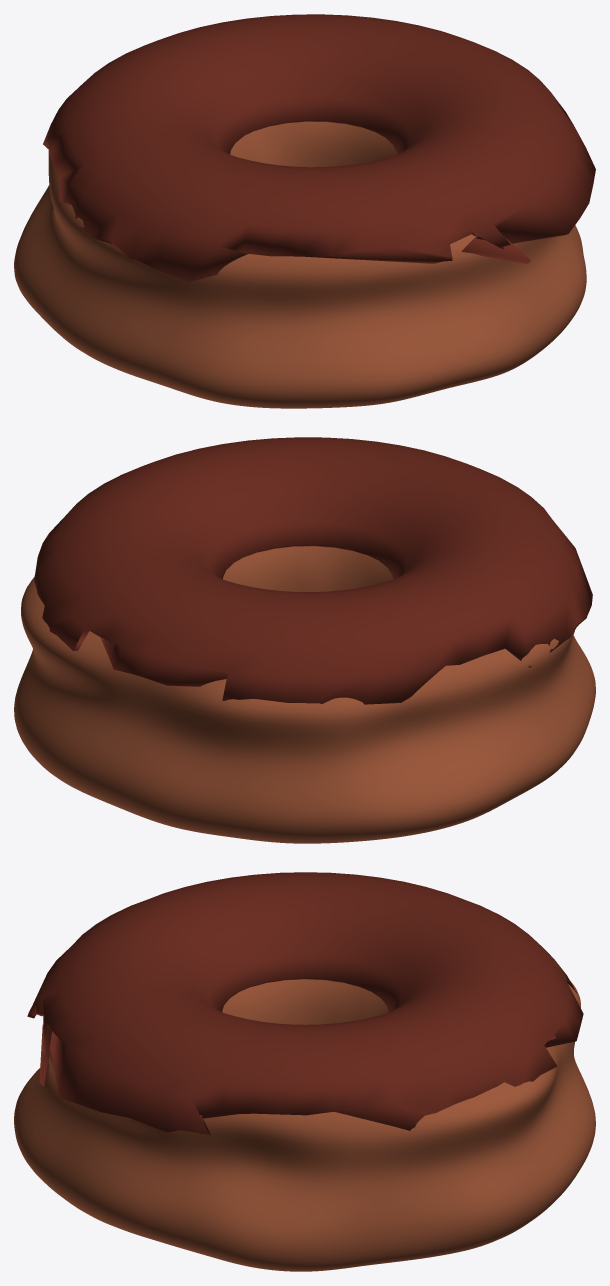
The model's file is donut.fbx.
The picture shows the model from 3 angles, top to bottom: view 1: azimuth 30°, elevation 25°; view 2: azimuth 150°, elevation 25°; view 3: azimuth 270°, elevation 25°; orthographic projection. The views are drawn at different scales.
Visible parts, largest first — view 1: icing, donut; view 2: icing, donut; view 3: icing, donut.
Part boxes in pixels (x1,y1,x2,y2): icing: (43,14,595,282); donut: (14,121,586,408); icing: (34,437,592,704); donut: (14,546,595,843); icing: (27,872,583,1134); donut: (14,979,595,1271).
Size of the model in its own units: 15.81 by 6.41 by 16.29.
